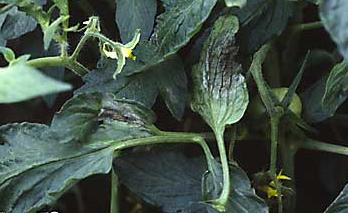Tomato leaf late blight: (0, 90, 164, 211), (186, 10, 249, 146), (148, 0, 231, 58)
